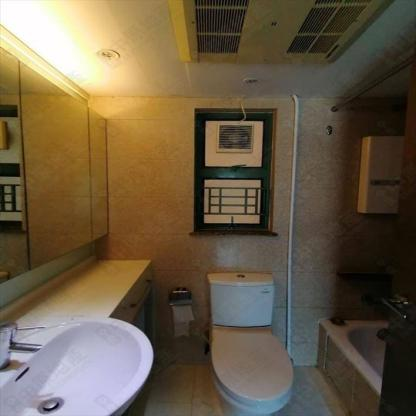Bathtub: (315, 319, 393, 415)
Exhaust Fan: (215, 123, 254, 157)
Faucet: (0, 315, 45, 368)
Toilet: (202, 269, 295, 415)
Toilet Sink: (0, 315, 156, 415)
Water Heater: (360, 133, 405, 211)
